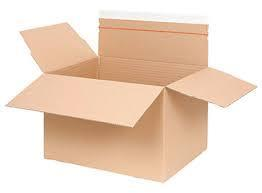box: (6, 18, 257, 184)
